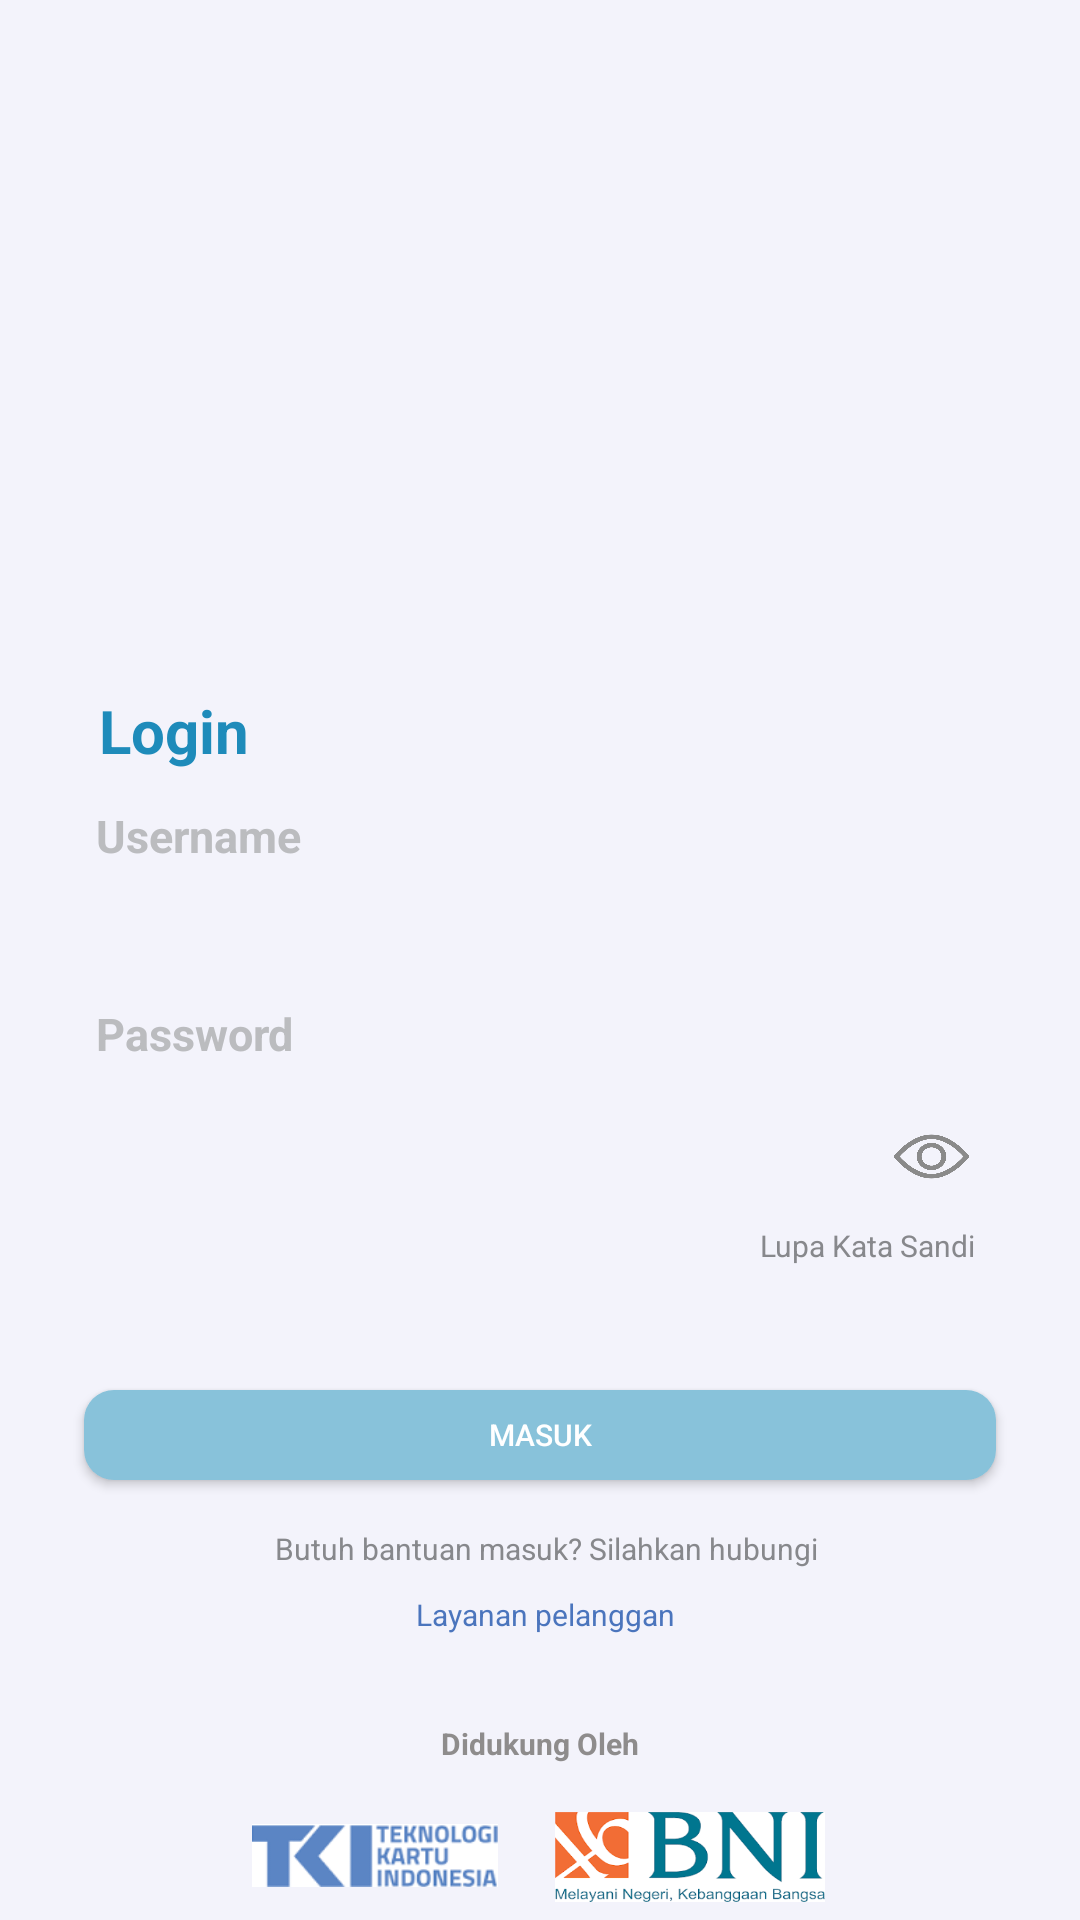

Icons on this 1080px x 1920px Android screen, each with its box as bbox(x1, y1, x2, y2):
view: bbox(894, 1134, 969, 1179)
